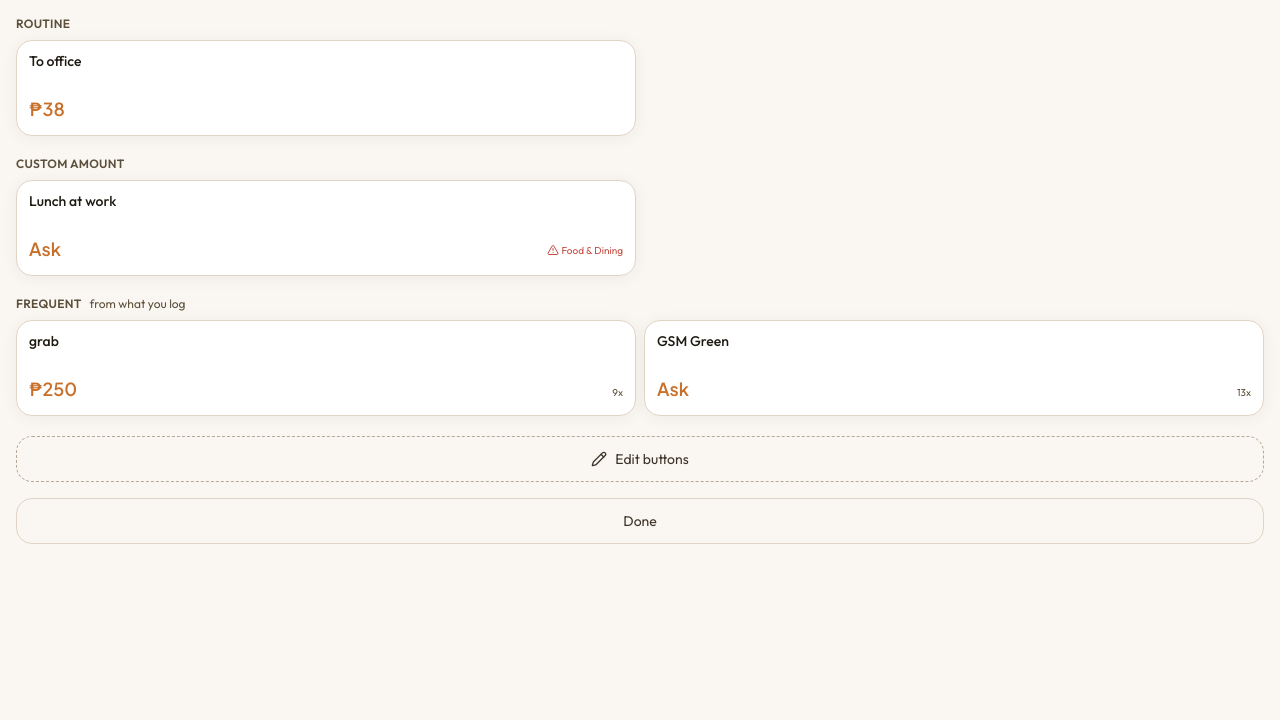
Scenario: TelegramApp: logging › opens the pad for an unstable frequent entry
Click the text "GSM Green": click(693, 342) x1=657 y1=333 x2=729 y2=350
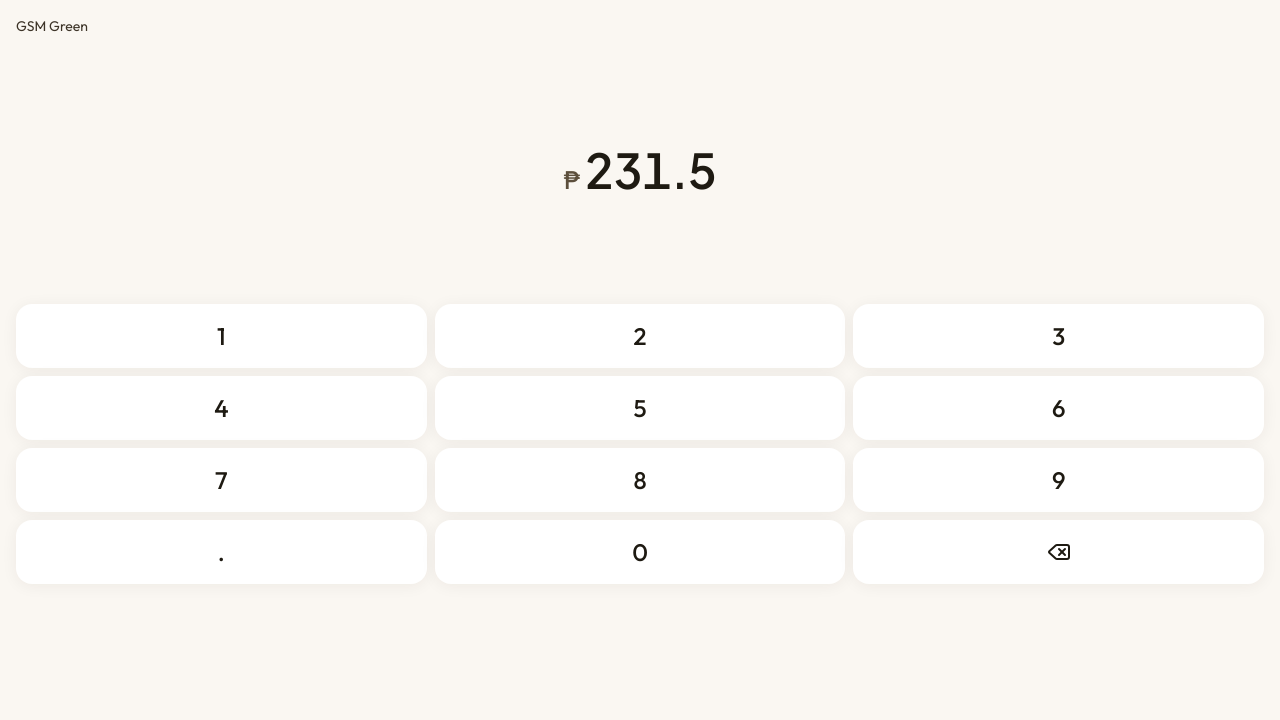
Now the button named "Delete" is shown, box x1=853 y1=520 x2=1264 y2=584
